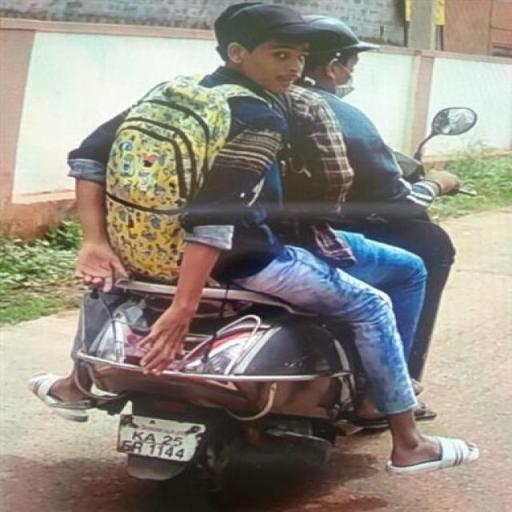tripple riding: (41, 1, 473, 302)
